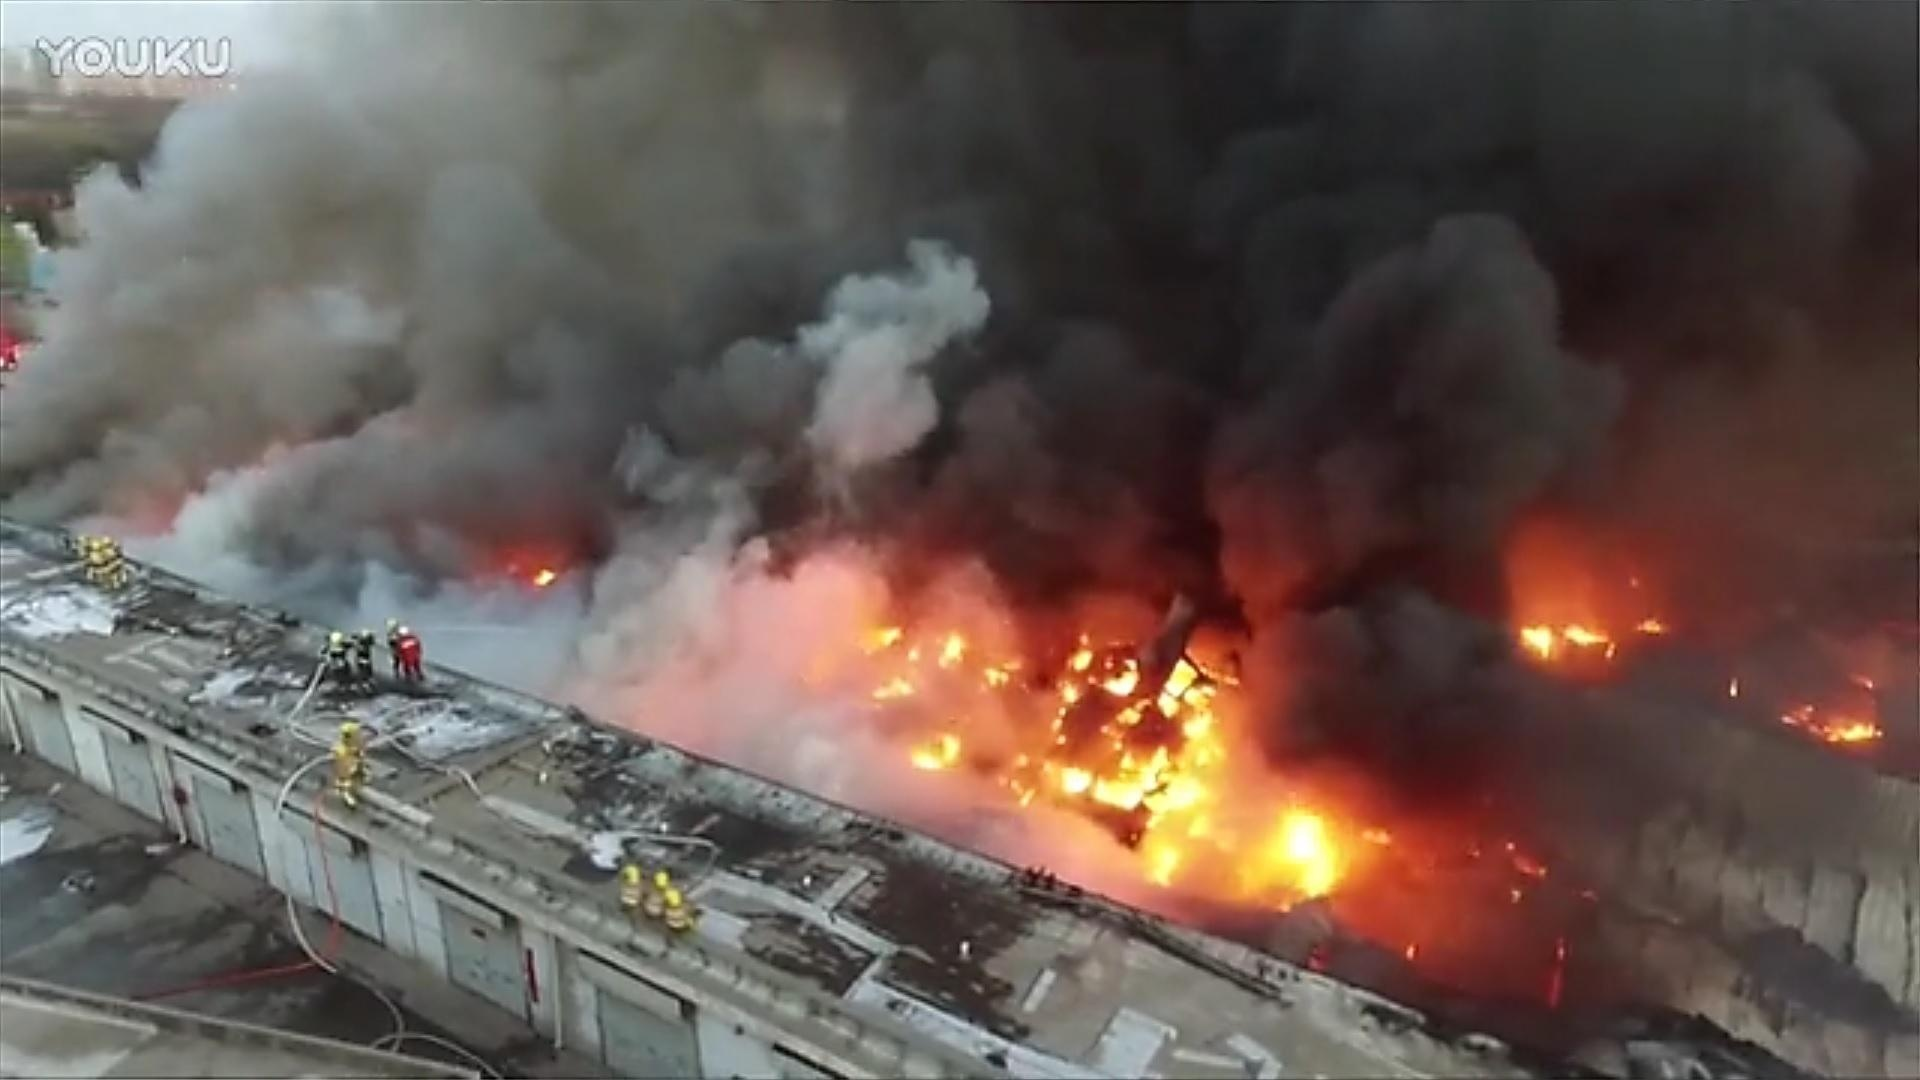fire: (872, 600, 1346, 897), (1516, 613, 1617, 661), (1789, 700, 1886, 746)
